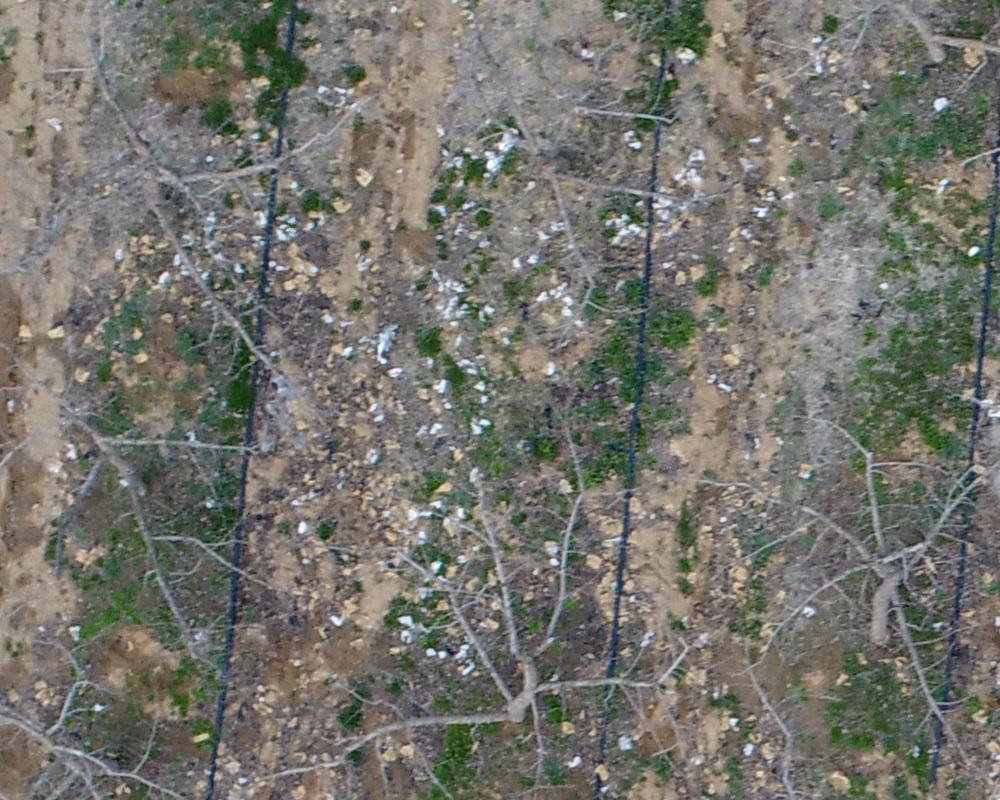apple: (314, 407, 698, 790), (45, 44, 367, 397), (698, 403, 990, 782), (10, 346, 315, 666), (433, 40, 695, 313)
